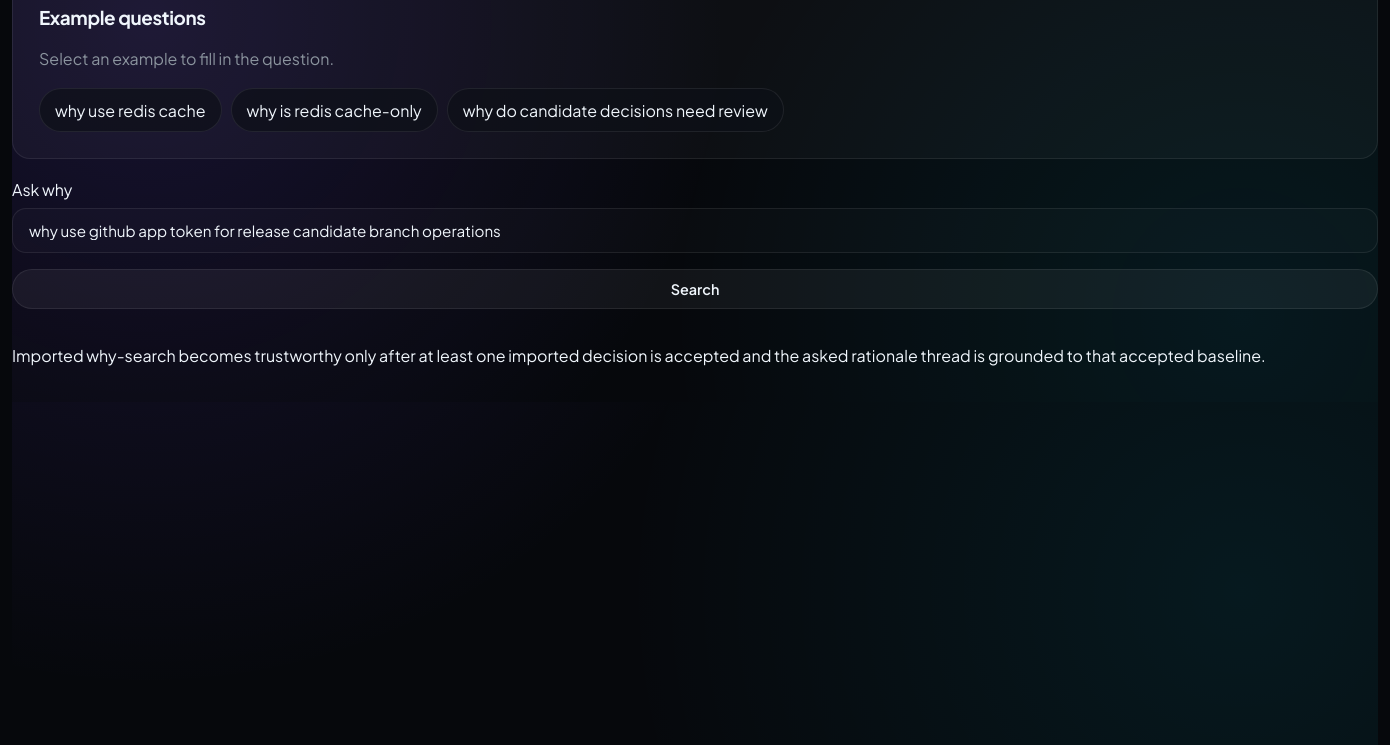
Test: QueryForm › renders limited-support why answers without presenting them as full success
The width and height of the screenshot is (1390, 745).
Click the button "Search". click: (695, 289)
box: [12,269,1378,309]
(page scrolled)
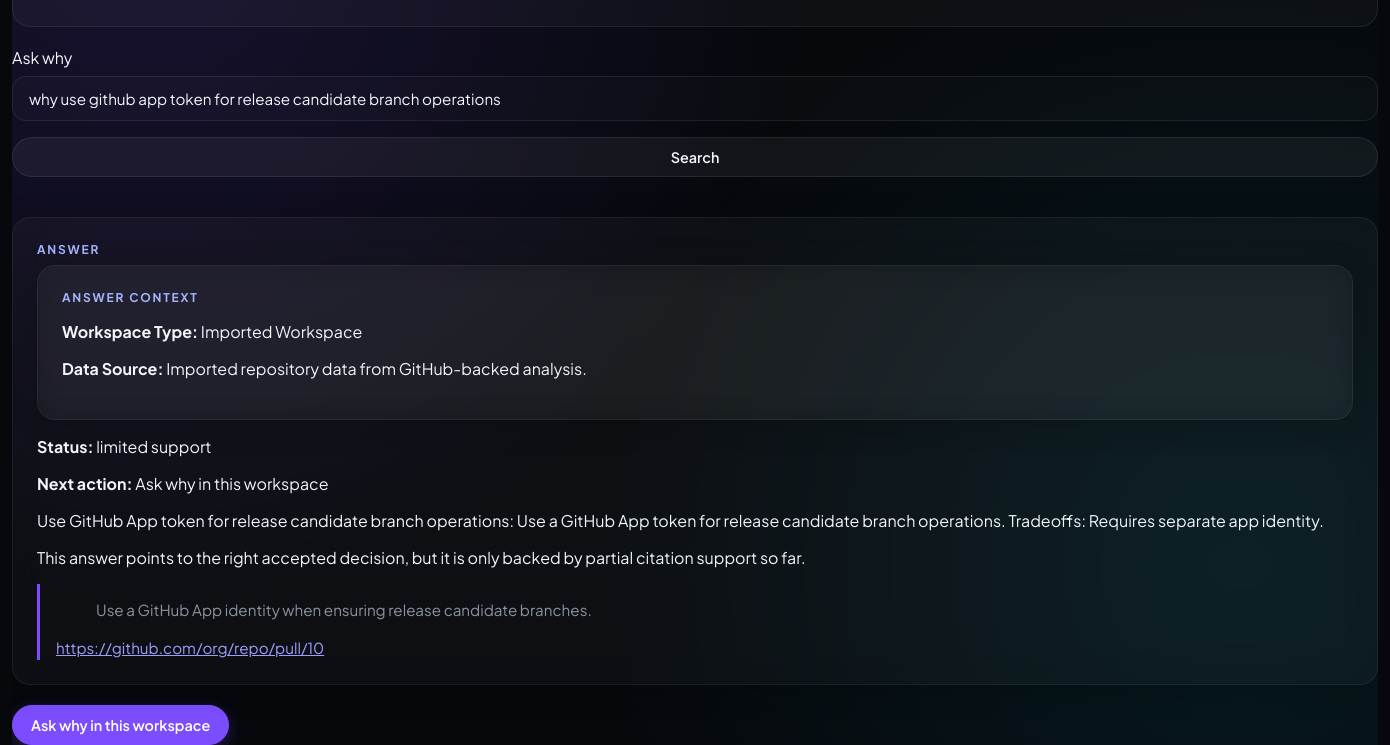
Check: the text "Status: limited support" is shown, box [37,436,212,457]
Check: the text "only backed by partial citation support so far" is shown, box [37,547,806,568]
